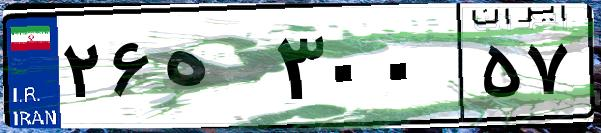0: (385, 28, 445, 110), (330, 28, 385, 110)
2: (57, 26, 110, 100)
3: (270, 28, 330, 110)
5: (475, 38, 525, 113)
6: (110, 28, 158, 98)
7: (525, 38, 570, 115)
ه: (158, 20, 270, 120)
